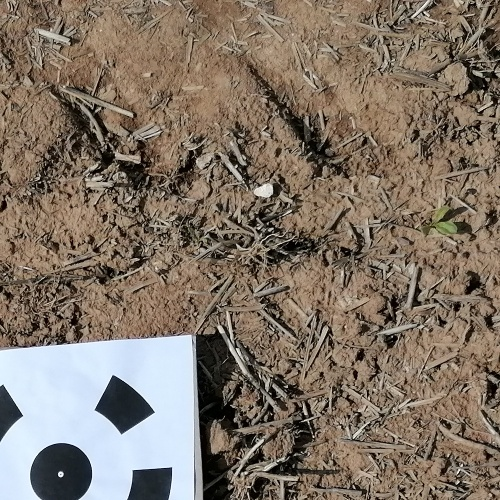beet: (419, 205, 466, 235)
